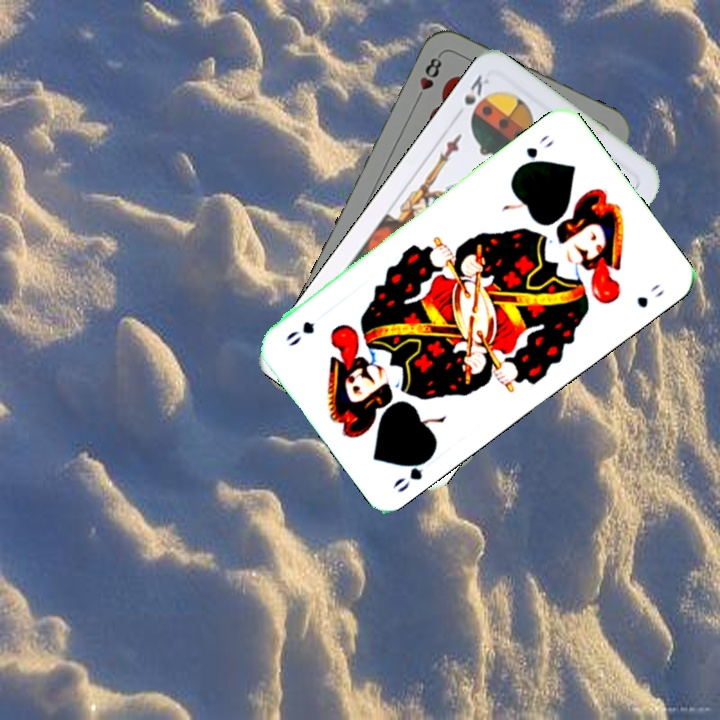GO: (388, 449, 437, 496), (513, 131, 557, 172)
H8: (411, 50, 445, 105)
SK: (460, 70, 492, 108)
